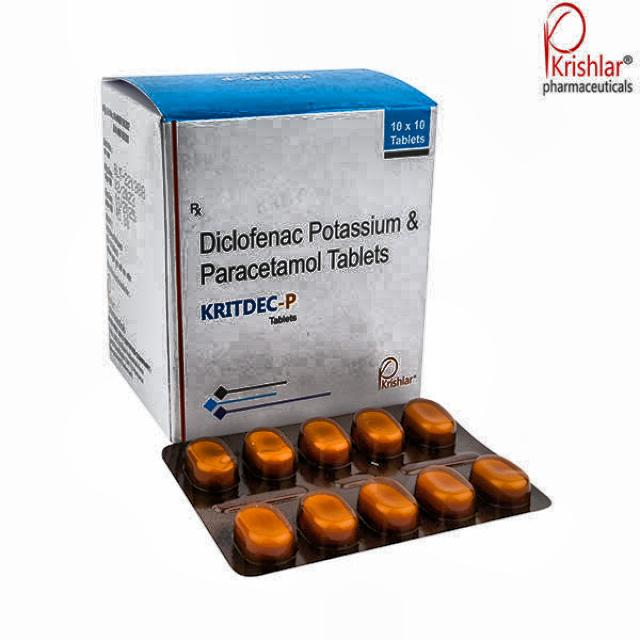Paracetamol: (199, 219, 425, 287)
